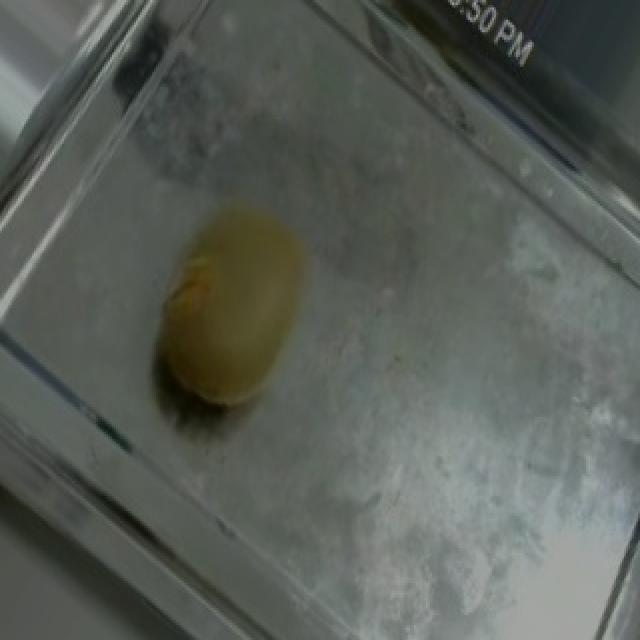Fruit: (116, 171, 352, 447)
